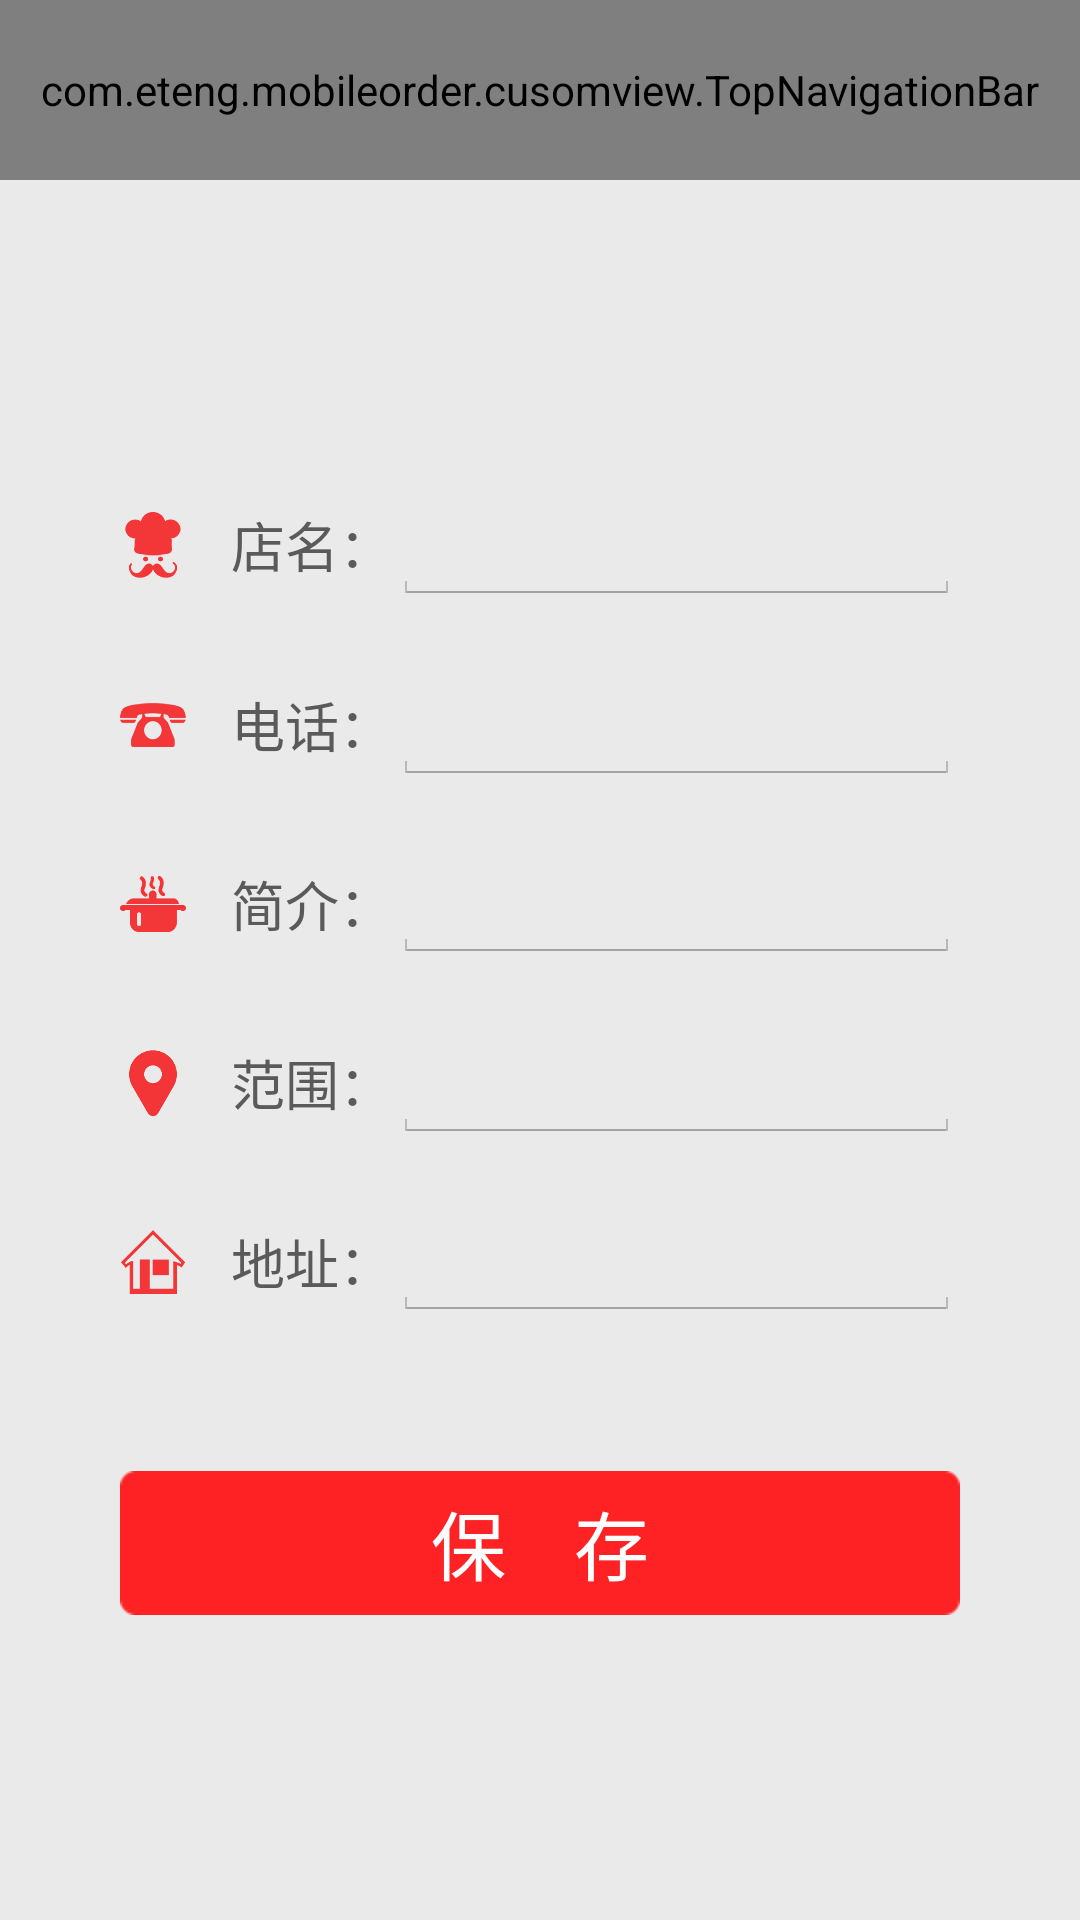

Named icons in this screenshot (1080*1920) and their centers, (x,y):
setting own profile addr: (153,1262)
setting own profile dish: (153,904)
setting own profile name: (153,545)
setting own profile scope: (153,1083)
setting own profile tel: (153,725)
